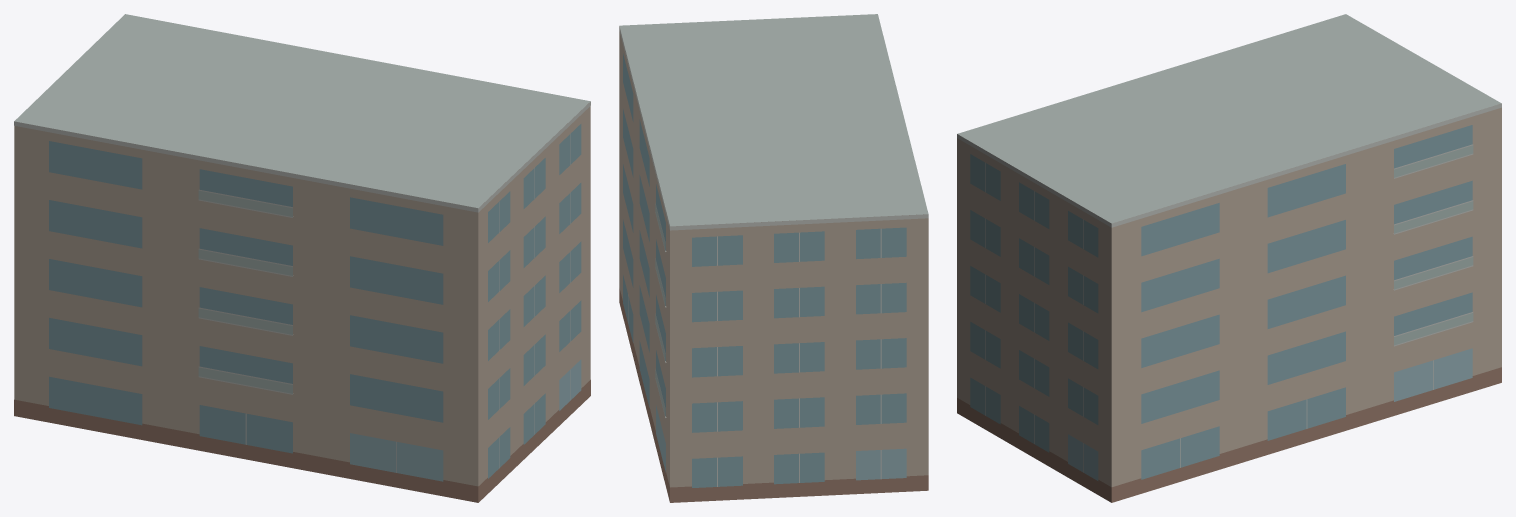
The model's file is survey-upis-32936065.glb.
3 renders of one model, left to right at view 1: azimuth 30°, elevation 25°; view 2: azimuth 150°, elevation 25°; view 3: azimuth 270°, elevation 25°, orthographic. The views are drawn at different scales.
Visible parts, largest first — view 1: survey-upis-32936065.tmp; view 2: survey-upis-32936065.tmp; view 3: survey-upis-32936065.tmp.
Part boxes in pixels (bbox=[...]): survey-upis-32936065.tmp: bbox=[14, 14, 590, 502]; survey-upis-32936065.tmp: bbox=[619, 14, 928, 502]; survey-upis-32936065.tmp: bbox=[957, 14, 1501, 502].
Bounding box in the file's own units: 26.4 × 16.4 × 28.99.
